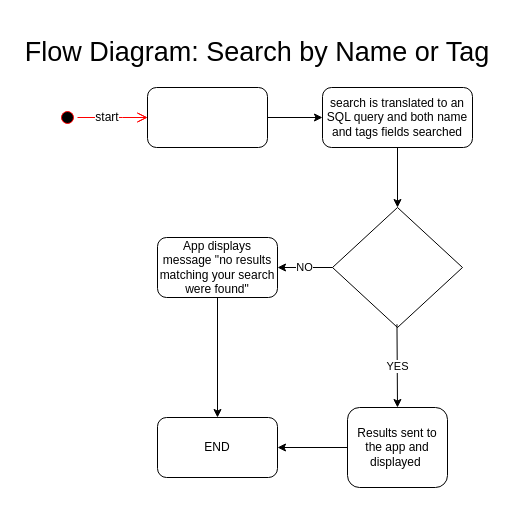
This 514x505 diagram has some shape labels left out. The shapes that lost their labels are listed below. From the top down, each one's centre as x and y in pixels, then its label:
[207,117]: User enters search for item from the app
[397,267]: Are there any items that match the query?
